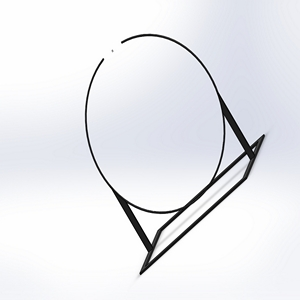circle: (83, 30, 266, 275)
